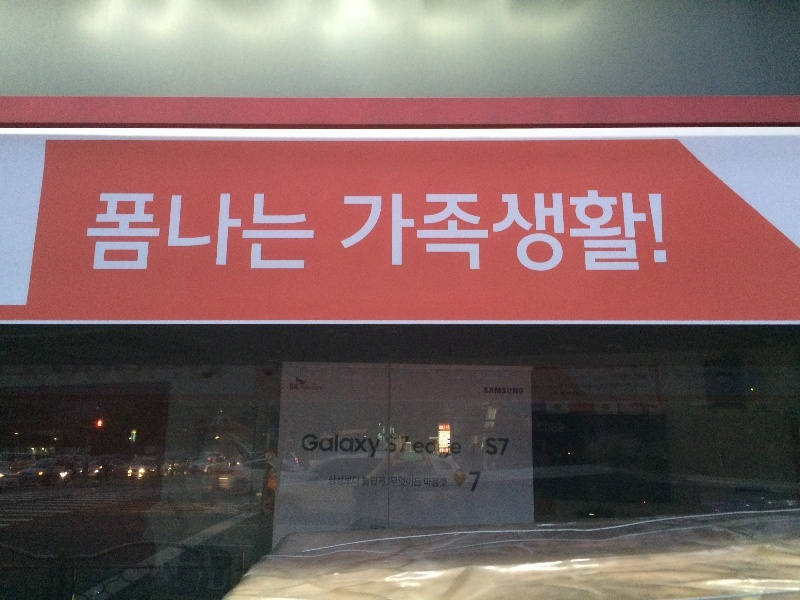text: (353, 189, 368, 274), (369, 189, 384, 274), (385, 189, 400, 274), (401, 189, 416, 274), (417, 189, 432, 274), (433, 189, 448, 274), (449, 189, 464, 274), (465, 189, 480, 274), (481, 189, 496, 274), (497, 189, 512, 274), (513, 189, 528, 274), (529, 189, 544, 274), (545, 189, 560, 274), (561, 189, 576, 274), (577, 189, 592, 274), (593, 189, 608, 274), (609, 189, 624, 274), (625, 189, 640, 274), (641, 189, 656, 274), (97, 190, 112, 273), (113, 190, 128, 273), (129, 190, 144, 273), (145, 190, 160, 273), (161, 190, 176, 273), (177, 190, 192, 273), (193, 190, 208, 273), (209, 190, 224, 273), (225, 190, 240, 273), (241, 190, 256, 273), (257, 190, 272, 273), (273, 190, 288, 273), (289, 190, 304, 273), (305, 190, 317, 273), (657, 189, 668, 274), (545, 364, 560, 418), (561, 364, 576, 418), (577, 364, 592, 418), (593, 364, 608, 418), (609, 364, 624, 418), (625, 364, 640, 418), (641, 364, 656, 418), (343, 189, 352, 274), (89, 190, 96, 273), (657, 364, 665, 418), (305, 433, 320, 459), (321, 433, 336, 459), (337, 433, 352, 459), (353, 433, 368, 459), (369, 433, 384, 459), (385, 433, 400, 459), (438, 425, 448, 454), (497, 437, 511, 457), (417, 438, 432, 456), (469, 470, 480, 494), (401, 433, 411, 459), (486, 437, 496, 457), (369, 475, 384, 487), (451, 442, 464, 455), (337, 475, 352, 486), (401, 477, 416, 488), (417, 477, 432, 488), (433, 477, 448, 488), (497, 386, 512, 395), (483, 386, 496, 395), (290, 383, 304, 391), (390, 477, 400, 488), (542, 364, 544, 418), (305, 384, 320, 391), (513, 386, 524, 395), (329, 475, 336, 486), (353, 475, 360, 486), (362, 475, 368, 487), (449, 425, 451, 454), (413, 438, 416, 456), (433, 438, 436, 456), (302, 433, 304, 459), (481, 470, 483, 494), (301, 384, 304, 391), (321, 384, 323, 391), (385, 475, 386, 487), (449, 477, 450, 488)
